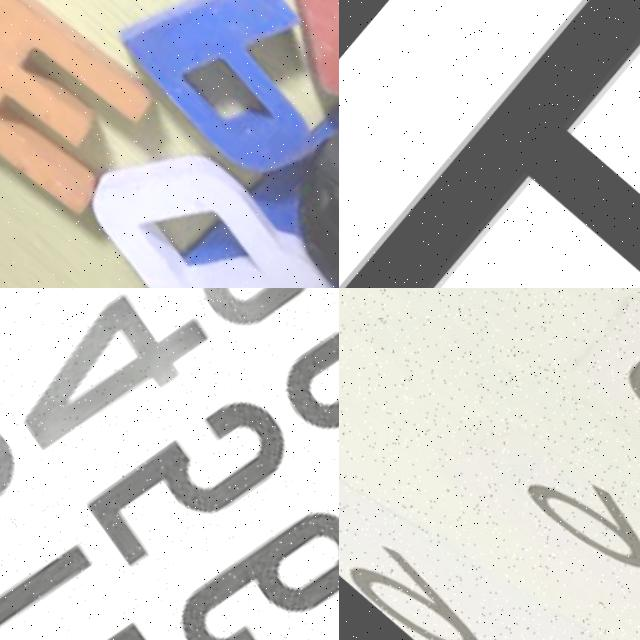0: (582, 290, 640, 520), (0, 363, 46, 632)
1: (0, 470, 109, 640)
2: (0, 566, 203, 640)
4: (0, 288, 236, 512)
5: (60, 334, 318, 615)
6: (146, 443, 339, 640)
8: (160, 288, 339, 380)
9: (500, 419, 640, 612), (339, 502, 532, 640), (250, 288, 339, 480)
E: (0, 0, 189, 239)
P: (93, 0, 339, 197)
Q: (63, 95, 339, 288)
U: (178, 0, 339, 190)
